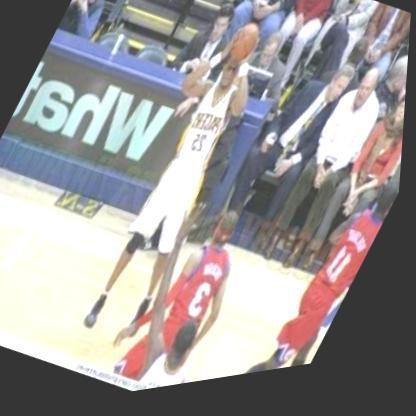basketball: (219, 22, 268, 78)
